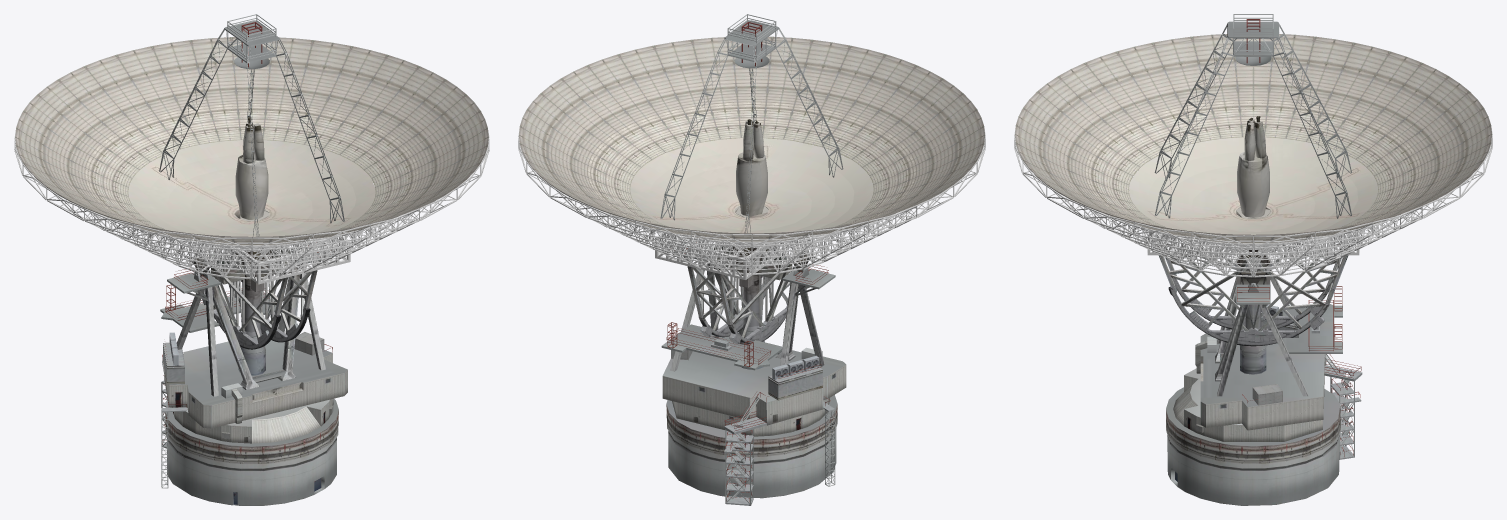
Rendered from dsn.glb.
3 renders of one model, left to right at view 1: azimuth 30°, elevation 25°; view 2: azimuth 150°, elevation 25°; view 3: azimuth 270°, elevation 25°, orthographic. The views are drawn at different scales.
Parts seen in each view (by area): view 1: dish, Cylinder.004, dish.002, base, truss_dish, truss_pendulum, quad, collector, truss_box, rails; view 2: dish, Cylinder.004, dish.002, base, truss_dish, truss_pendulum, quad, collector, landing, rails, truss_box; view 3: dish, Cylinder.004, dish.002, base, truss_dish, truss_pendulum, quad, collector, landing, rails, truss_box.
Part boxes in pixels (<box>): dish: <box>15,37,488,245</box>; Cylinder.004: <box>160,243,347,488</box>; dish.002: <box>128,140,375,236</box>; base: <box>165,399,338,505</box>; truss_dish: <box>14,110,489,279</box>; truss_pendulum: <box>190,244,317,349</box>; quad: <box>159,14,344,236</box>; collector: <box>234,117,269,220</box>; truss_box: <box>208,236,350,284</box>; rails: <box>162,242,332,444</box>; dish: <box>519,36,984,241</box>; Cylinder.004: <box>661,239,846,486</box>; dish.002: <box>630,138,873,233</box>; base: <box>666,395,837,498</box>; truss_dish: <box>518,109,985,274</box>; truss_pendulum: <box>687,241,812,343</box>; quad: <box>660,14,843,232</box>; collector: <box>734,119,768,217</box>; landing: <box>724,397,766,505</box>; rails: <box>666,242,830,502</box>; truss_box: <box>655,233,794,279</box>; dish: <box>1015,34,1491,243</box>; Cylinder.004: <box>1173,270,1342,441</box>; dish.002: <box>1129,137,1377,234</box>; base: <box>1166,387,1340,505</box>; truss_dish: <box>1014,108,1492,277</box>; truss_pendulum: <box>1153,237,1353,346</box>; quad: <box>1154,14,1351,218</box>; collector: <box>1236,116,1271,219</box>; landing: <box>1324,354,1362,459</box>; rails: <box>1237,286,1361,456</box>; truss_box: <box>1147,232,1359,255</box>.
Size of the model in its own units: 70.07 by 72.93 by 70.07.
3 materials, 2 textured.
